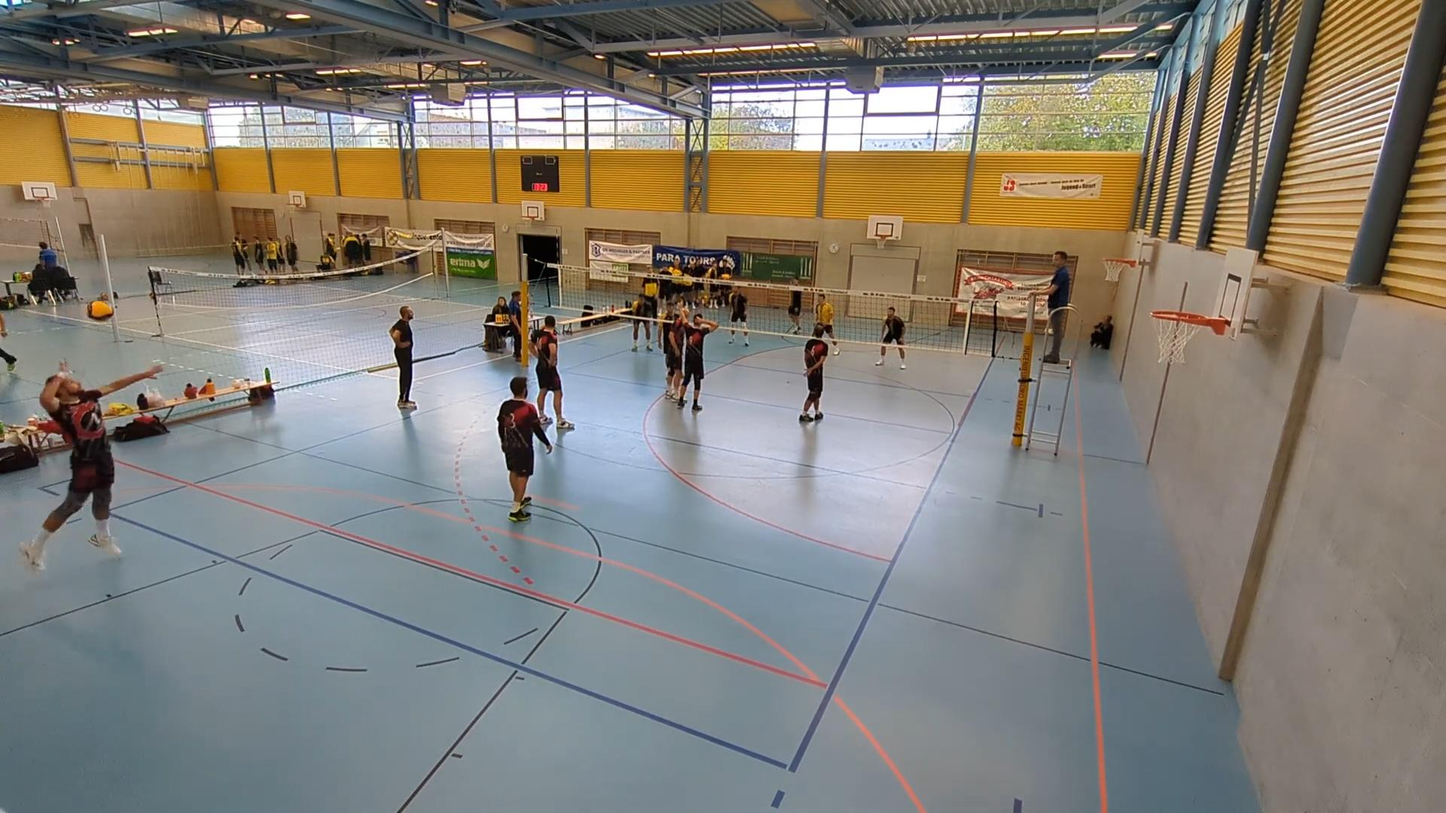Player: (498, 376, 552, 521), (533, 315, 574, 430), (677, 313, 718, 411), (799, 323, 828, 422), (389, 306, 416, 410), (660, 303, 685, 398), (875, 307, 905, 369), (632, 279, 657, 352), (816, 294, 839, 355), (728, 288, 749, 344), (787, 282, 802, 334)
Set: (24, 364, 115, 570)
ball: (85, 302, 116, 320)
